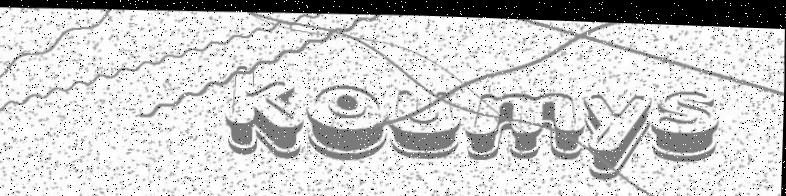k: (216, 57, 313, 165)
m: (464, 84, 587, 160)
o: (302, 73, 391, 167)
s: (648, 75, 724, 161)
u: (385, 81, 464, 161)
y: (581, 85, 658, 177)
